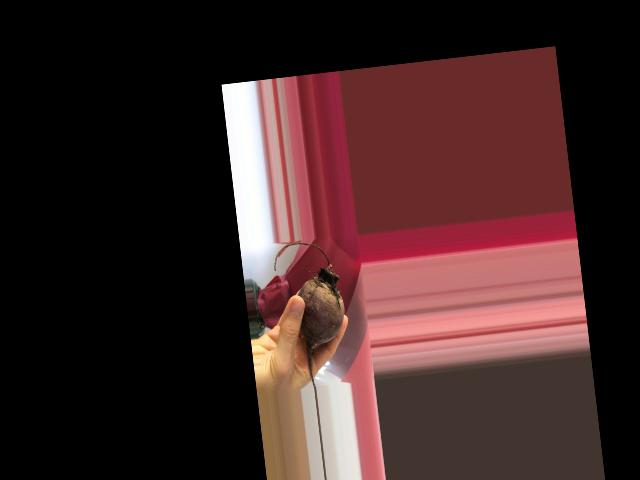beet: (271, 237, 352, 390)
